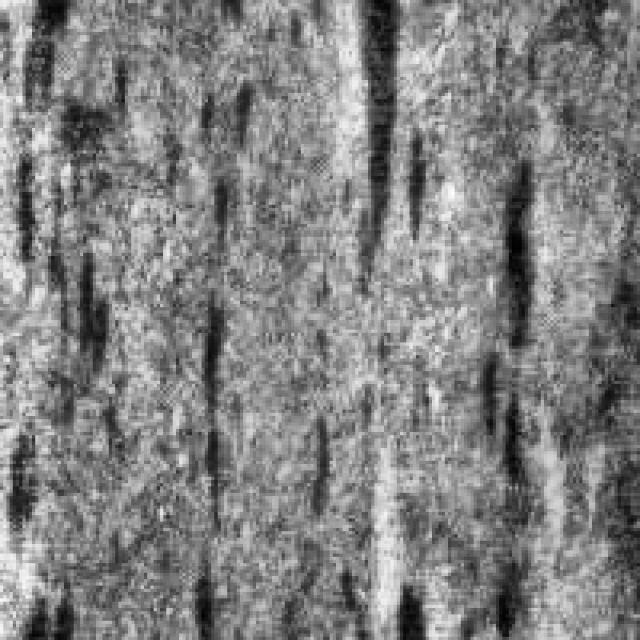Patches: (163, 294, 250, 628), (332, 0, 410, 304), (480, 144, 547, 349), (42, 227, 115, 400), (464, 329, 528, 496), (180, 70, 247, 180), (291, 397, 339, 541), (196, 160, 237, 259)
